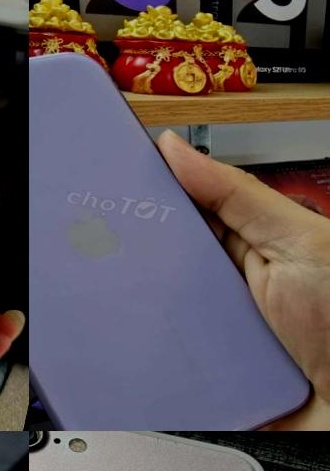scratch: (244, 459, 263, 471)
